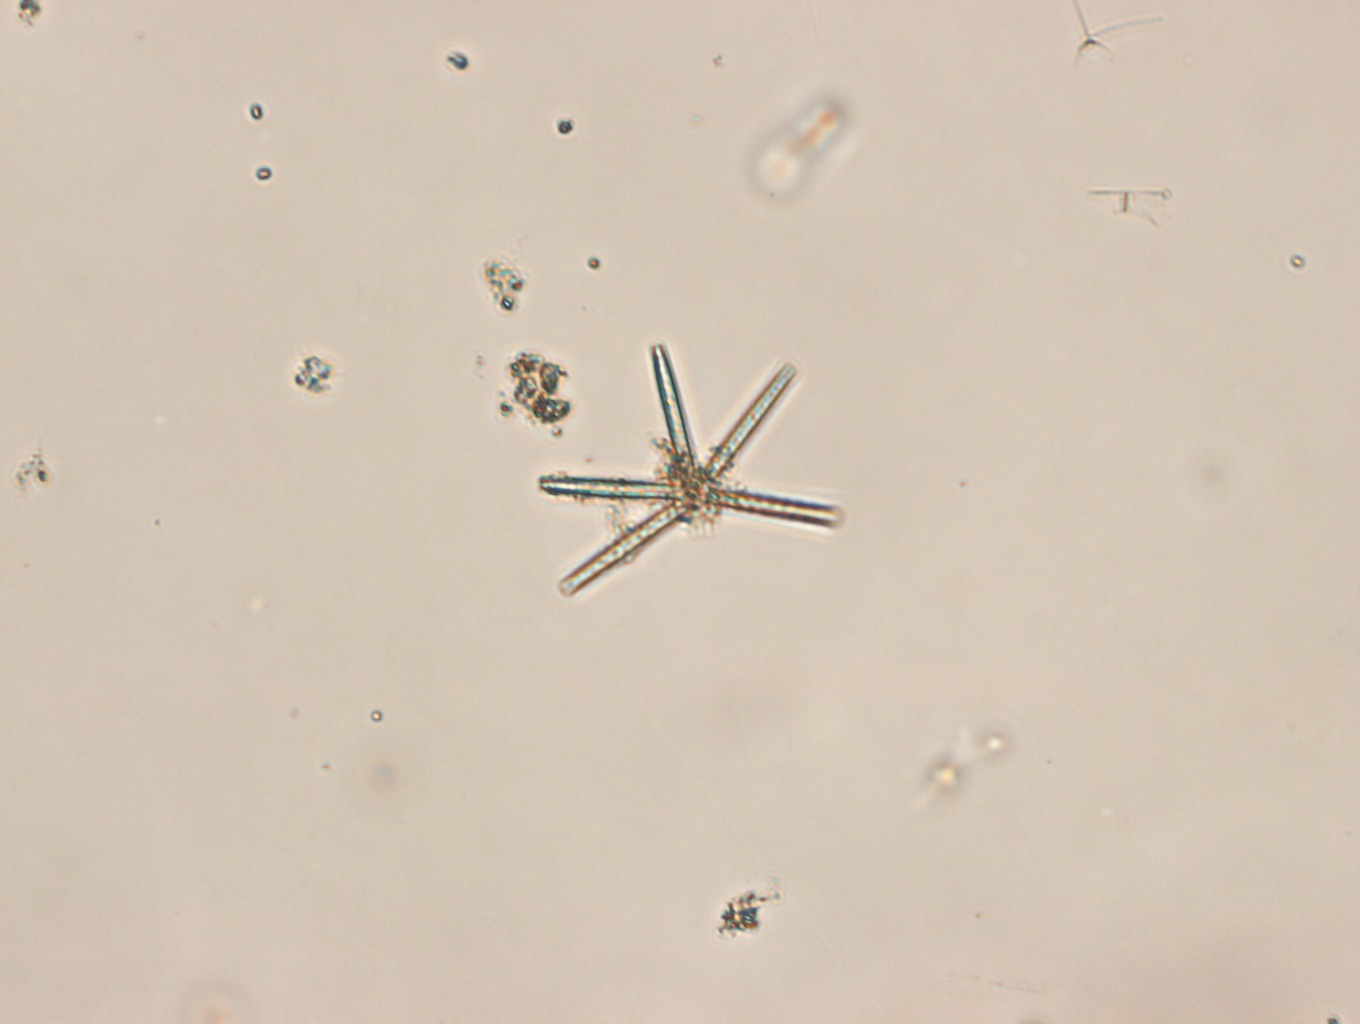thalassionema nitzschioides: (536, 342, 841, 599)
